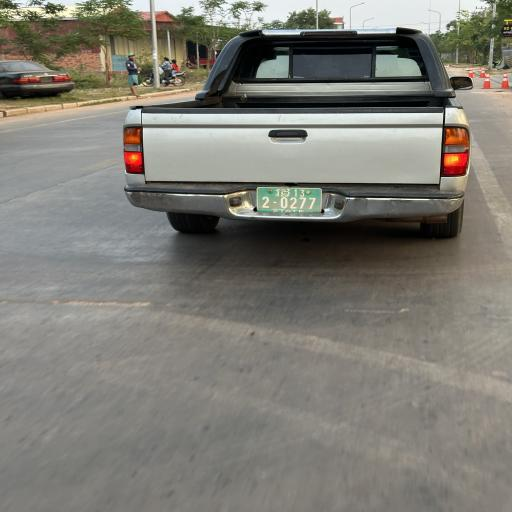Plate Number: (259, 186, 324, 212)
